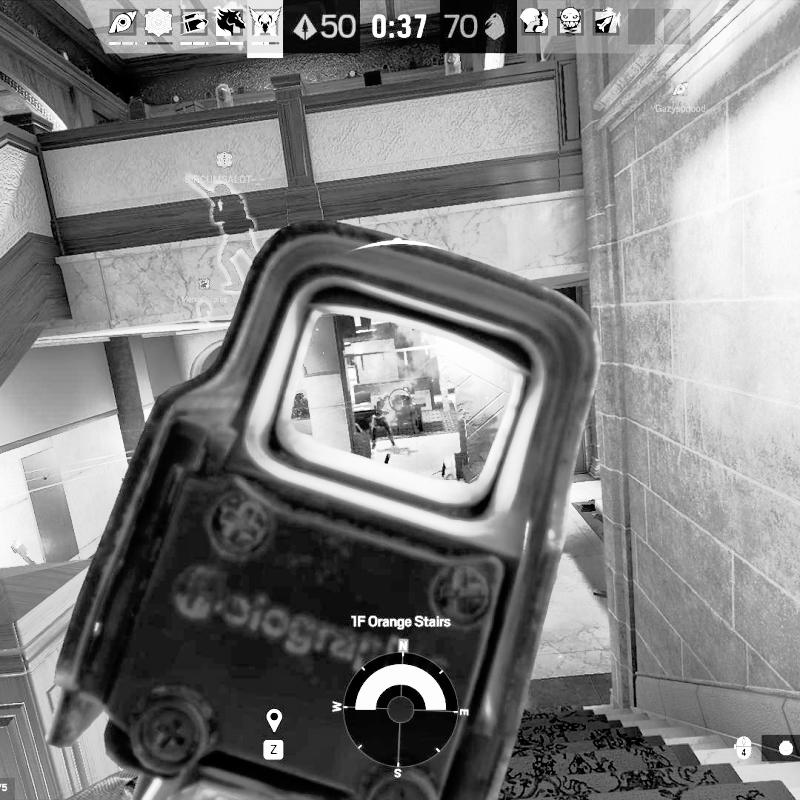Character: (370, 392, 396, 455)
Friend_label: (184, 147, 267, 187), (653, 78, 708, 116), (181, 276, 229, 304)
Head: (380, 392, 390, 402)
